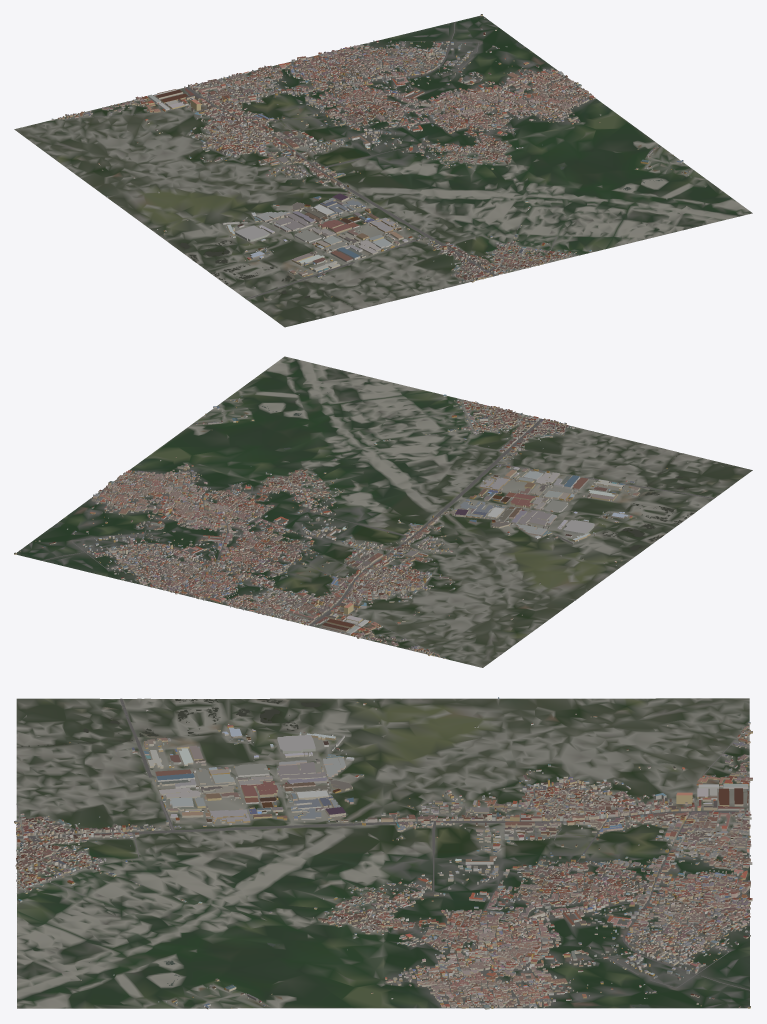
3 views of the same model, one above another, from view 1: azimuth 30°, elevation 25°; view 2: azimuth 150°, elevation 25°; view 3: azimuth 270°, elevation 25° (orthographic). The views are drawn at different scales.
Visible parts, largest first — view 1: ground, buildings, roads, water; view 2: ground, buildings, roads, water; view 3: ground, buildings, roads, water.
Part boxes in pixels (box(x1,y1,x2,y2)): ground: box(14, 15, 752, 327); buildings: box(51, 14, 691, 297); roads: box(82, 22, 580, 299); water: box(180, 42, 662, 308); ground: box(16, 356, 752, 667); buildings: box(14, 383, 687, 658); roads: box(42, 399, 714, 650); water: box(52, 392, 693, 550); ground: box(16, 698, 749, 1008); buildings: box(14, 697, 752, 1009); roads: box(16, 698, 749, 1008); water: box(21, 699, 650, 1007).
Bounding box in the file's own units: 2819 × 42.96 × 2827.
